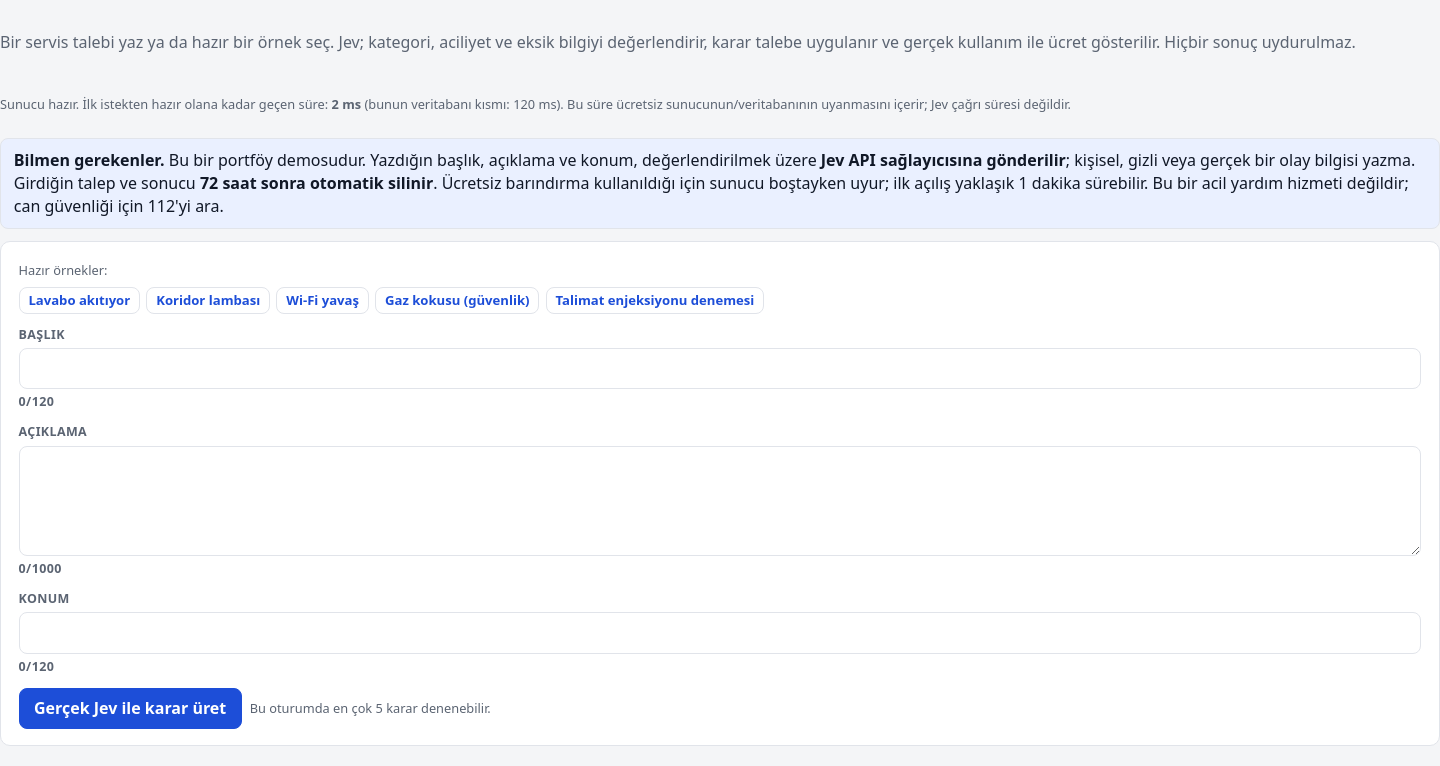
Test case: DemoPage: sonuç › kategori, öncelik, uygulanma durumu, gerçek token ve ücret, ayrı süreler gösterilir
The width and height of the screenshot is (1440, 766).
Expected: the element with test id "wake-summary" is shown, left=0, top=95, right=1071, bottom=113
Click the button "Lavabo akıtıyor": click(79, 300) left=19, top=287, right=140, bottom=314
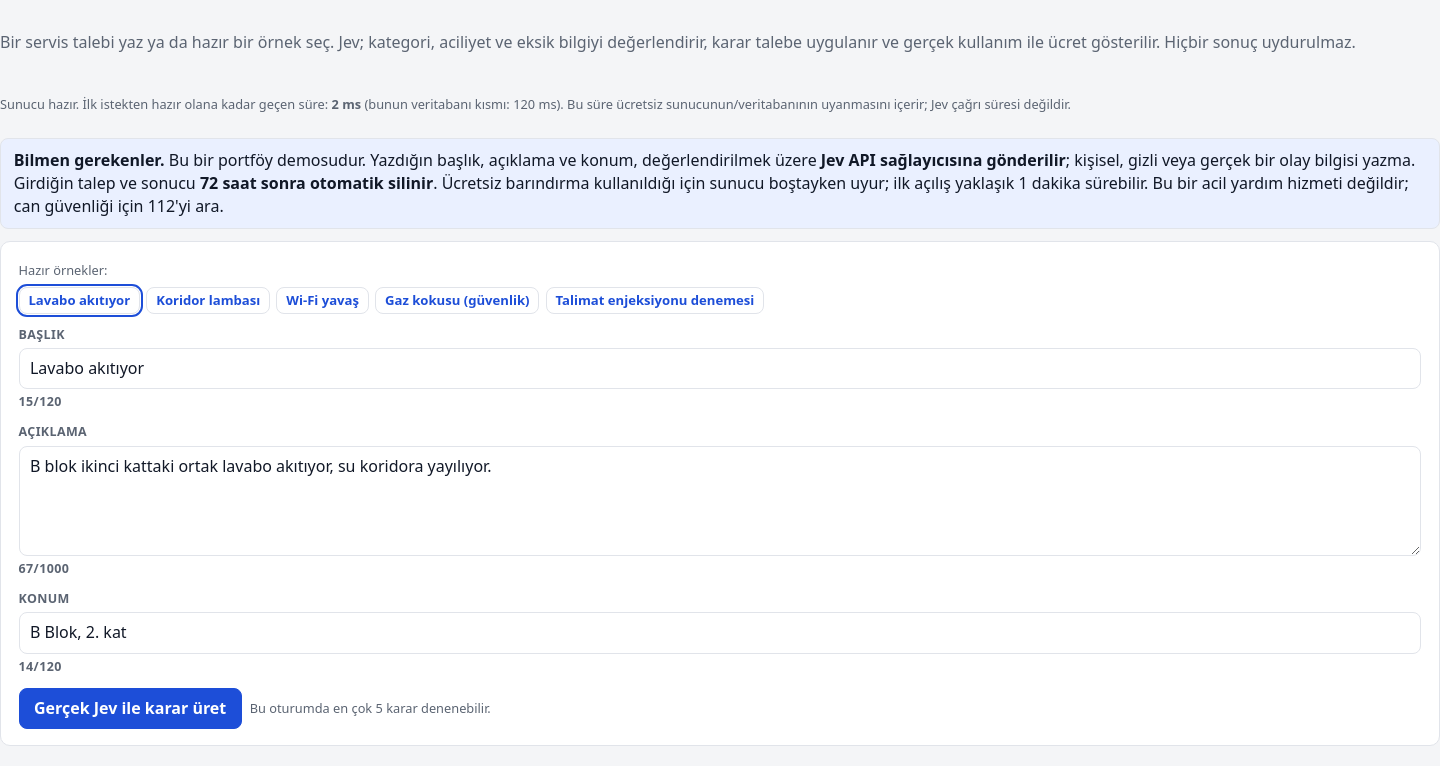
Click the button "Gerçek Jev ile karar üret": click(130, 708) left=19, top=688, right=242, bottom=729
(page scrolled)
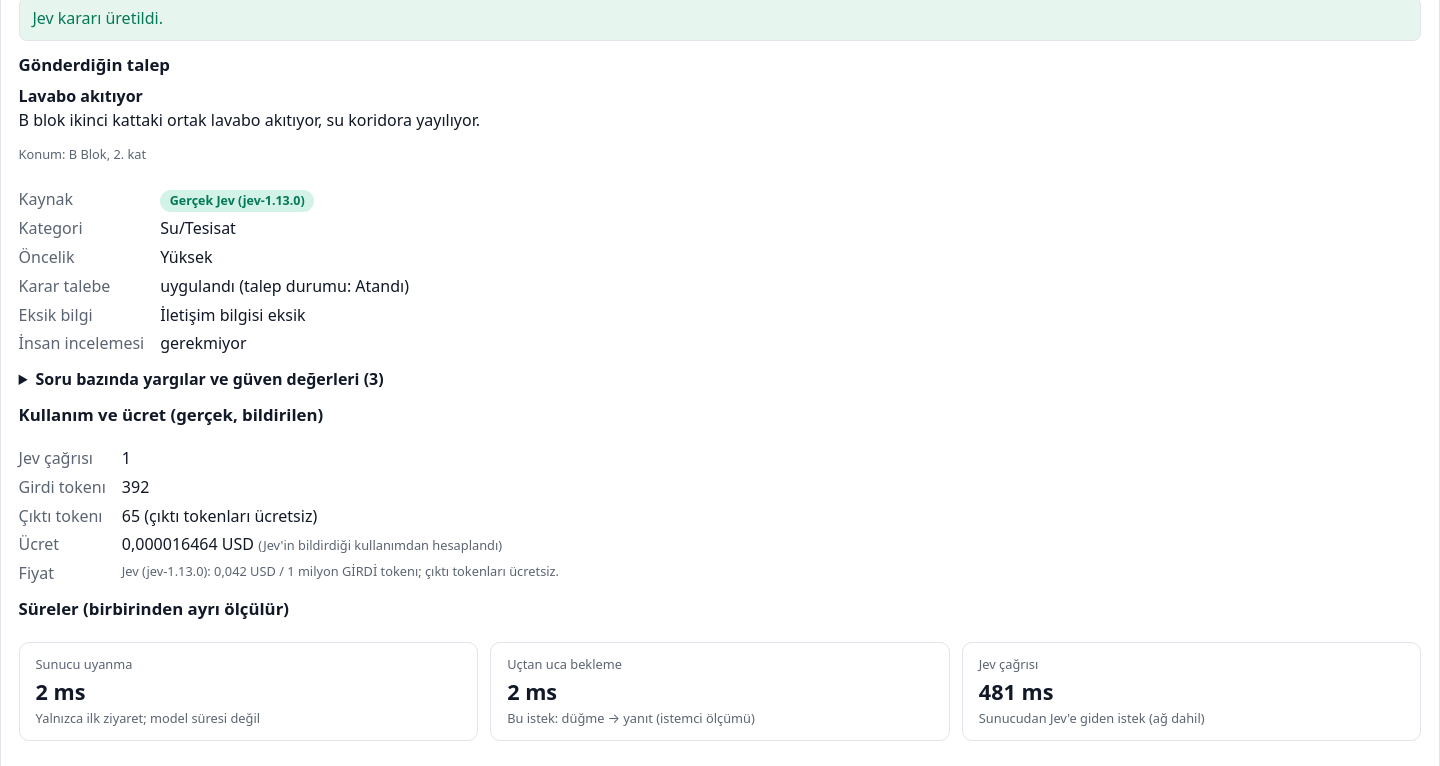
Now the element "Sonuç" shows "Su/Tesisat", box left=160, top=217, right=236, bottom=239
Now the element "Sonuç" shows "Yüksek", box left=160, top=246, right=213, bottom=268
Now the element "Sonuç" shows "uygulandı (talep durumu: Atandı)", box left=160, top=275, right=409, bottom=297
